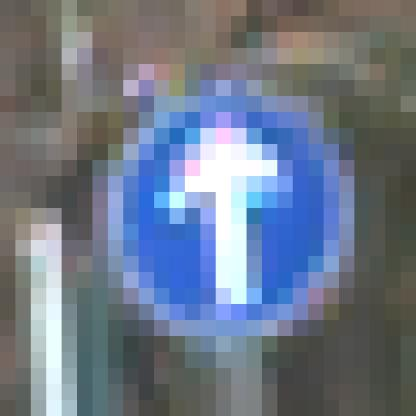AheadOnly: (93, 81, 340, 337)
